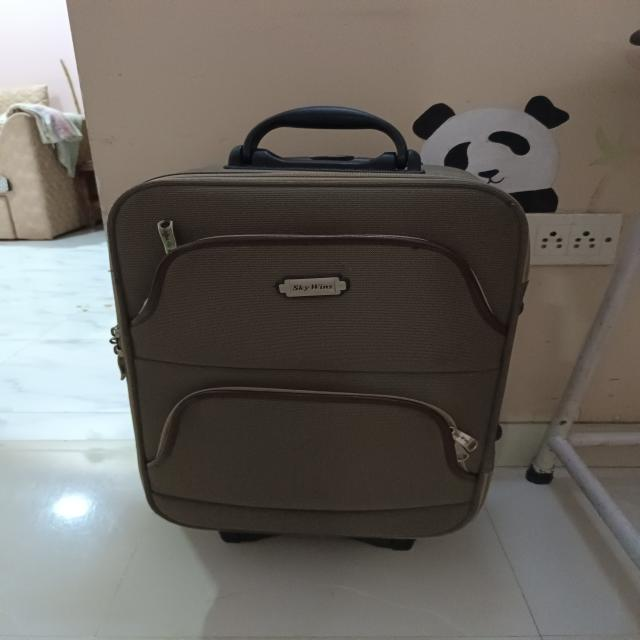suitcaserotation: (101, 102, 536, 554)
